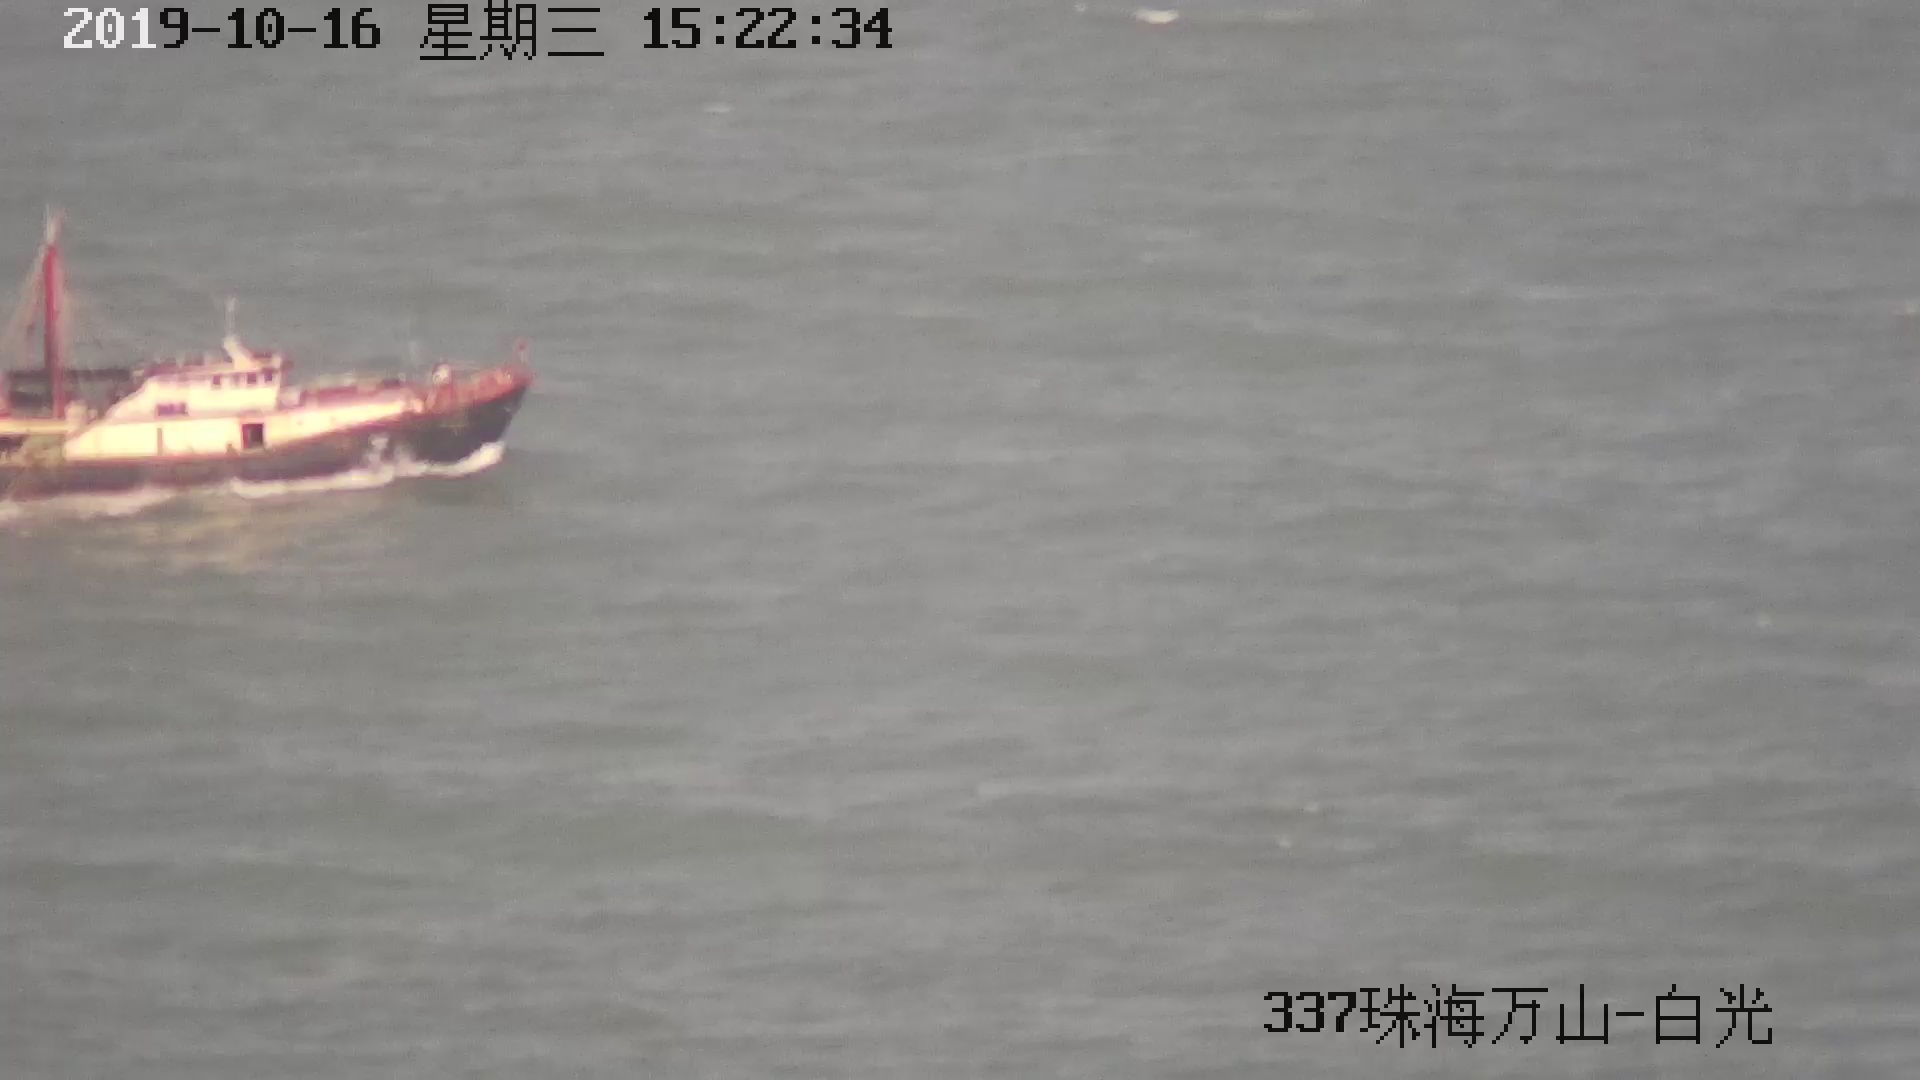ship: (1, 243, 527, 516)
